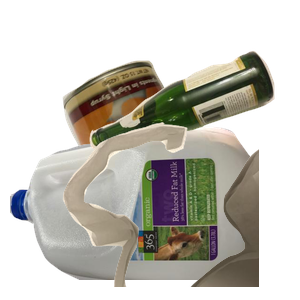glass: (87, 48, 300, 190)
metal: (60, 58, 300, 238)
plastic: (10, 120, 250, 300)
trash: (60, 120, 300, 300)
